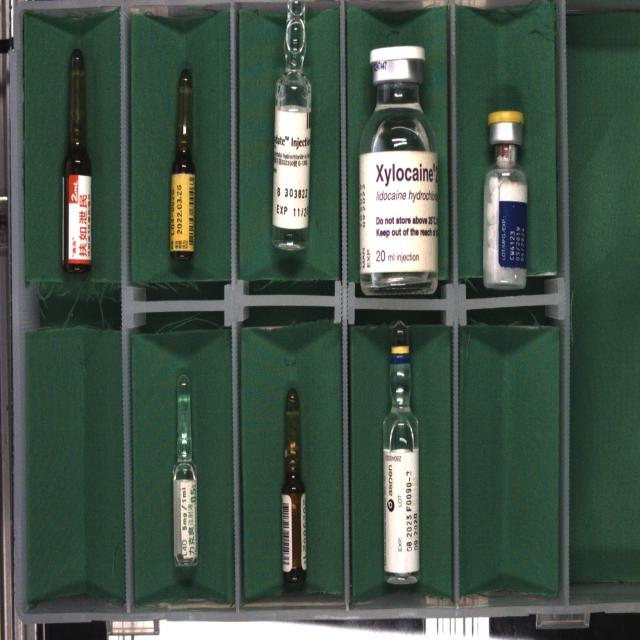Vials: (359, 46, 438, 294), (483, 110, 527, 289)
